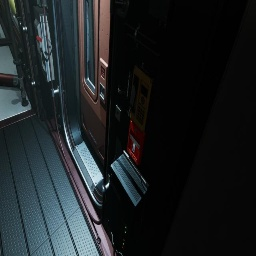EmergencyPhone ,: (127, 48, 154, 133)
FireAlarm ,: (127, 119, 145, 166)
NitrogenTank ,: (0, 73, 26, 89)
SafetySwitchPanel ,: (33, 6, 55, 82)
